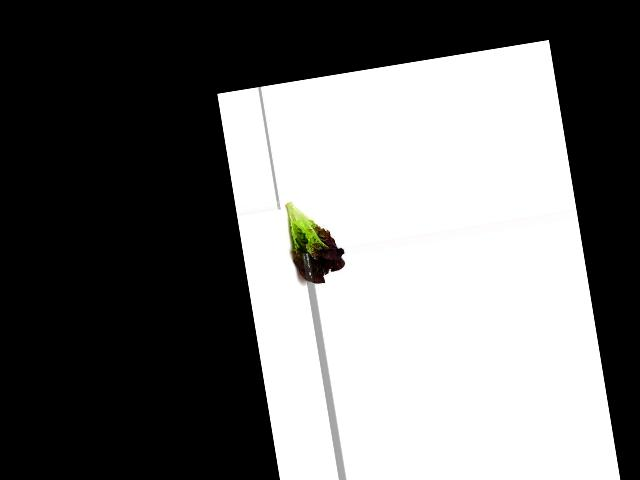lettuce: (279, 191, 349, 289)
